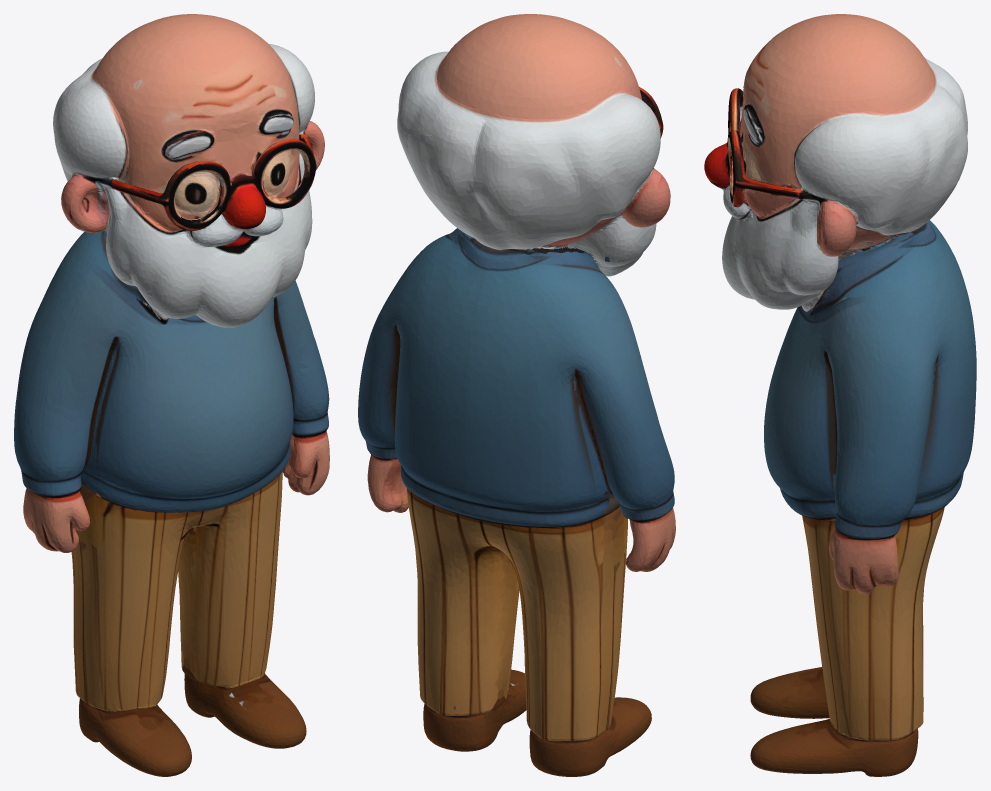
The model's file is newMan1.glb.
The picture shows the model from 3 angles, left to right: view 1: azimuth 30°, elevation 25°; view 2: azimuth 150°, elevation 25°; view 3: azimuth 270°, elevation 25°; orthographic projection.
Parts seen in each view (by area): view 1: a4fc7ec8-7e24-48a3-a807-b9c58259dac0_texturing.obj; view 2: a4fc7ec8-7e24-48a3-a807-b9c58259dac0_texturing.obj; view 3: a4fc7ec8-7e24-48a3-a807-b9c58259dac0_texturing.obj.
Boxes of the visible parts, x1=… form: a4fc7ec8-7e24-48a3-a807-b9c58259dac0_texturing.obj: x1=14, y1=14, x2=329, y2=776; a4fc7ec8-7e24-48a3-a807-b9c58259dac0_texturing.obj: x1=358, y1=14, x2=675, y2=776; a4fc7ec8-7e24-48a3-a807-b9c58259dac0_texturing.obj: x1=704, y1=14, x2=976, y2=776.
Size of the model in its own units: 0.8798 by 1.99 by 0.6901.
Materials: 1 (1 with a texture image).
